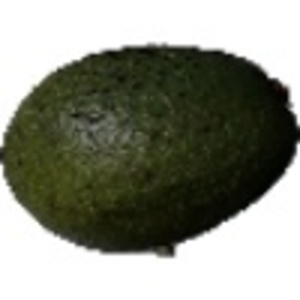abacate: (2, 38, 297, 242)
